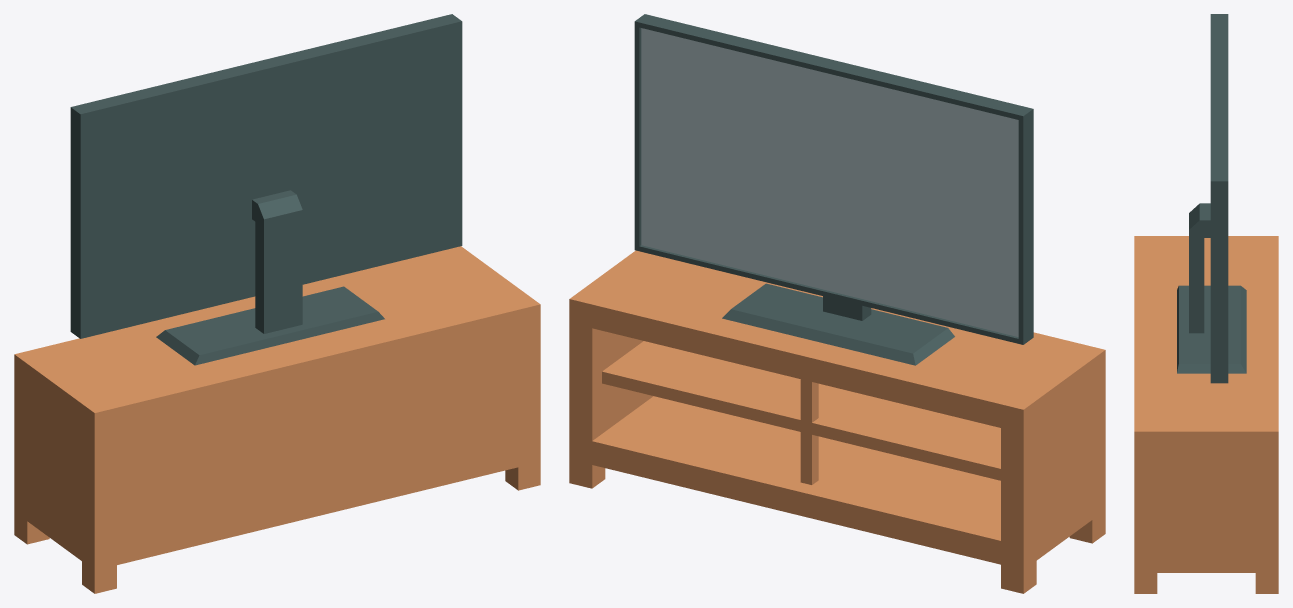
Rendered from televisionModern.glb.
3 renders of one model, left to right at view 1: azimuth 30°, elevation 25°; view 2: azimuth 150°, elevation 25°; view 3: azimuth 270°, elevation 25°, orthographic. The views are drawn at different scales.
Parts seen in each view (by area): view 1: televisionModern; view 2: televisionModern; view 3: televisionModern.
Boxes of the visible parts, <box> form: televisionModern: <box>14,14,540,593</box>; televisionModern: <box>569,14,1105,593</box>; televisionModern: <box>1134,14,1278,593</box>.
Bounding box in the file's own units: 1.85 × 1.75 × 0.5779.
